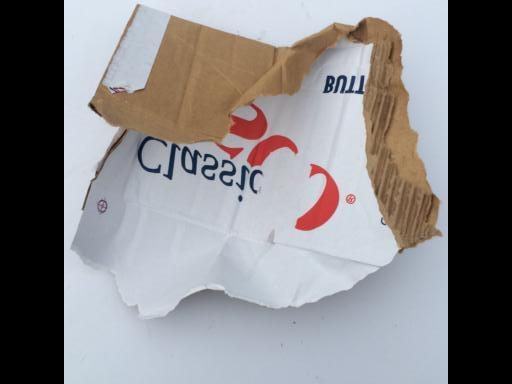cardboard: (74, 4, 444, 323)
